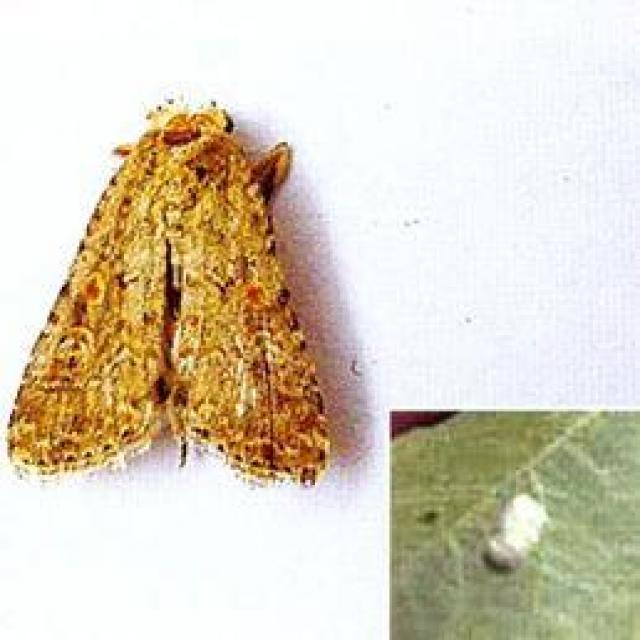BeetArmyWorm-Adult-: (11, 80, 348, 502)
